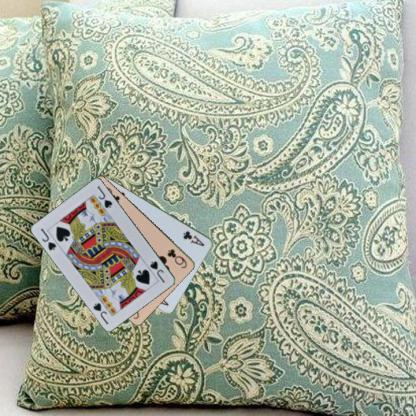6c: (165, 246, 188, 269)
Ac: (181, 228, 206, 247)
Js: (38, 226, 58, 252), (148, 258, 166, 284)
